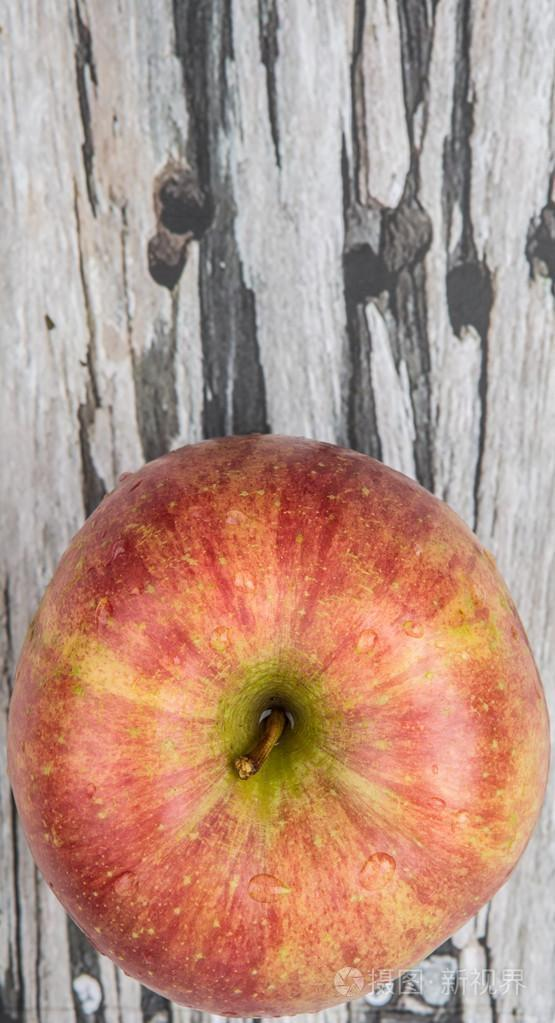apple: (3, 427, 546, 1013)
